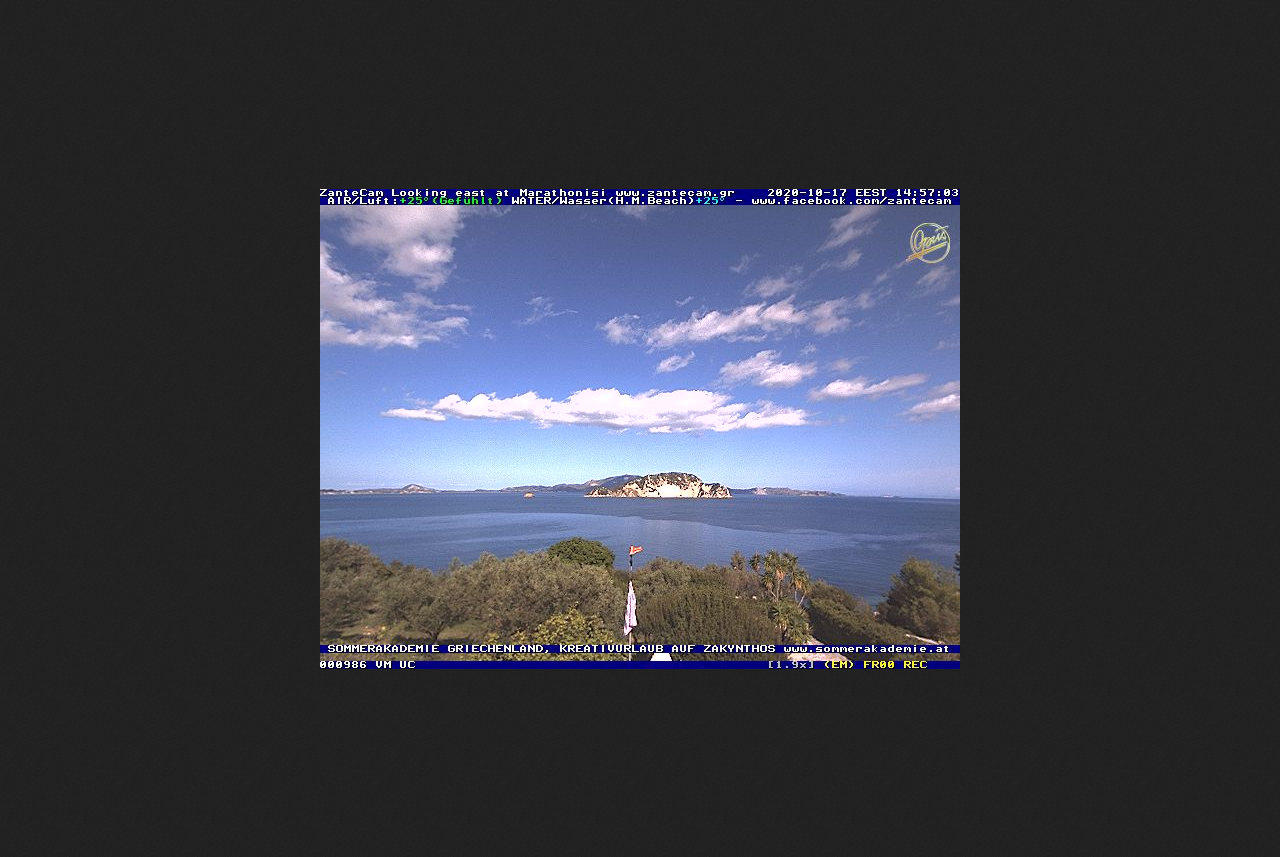no: (616, 579, 638, 636)
